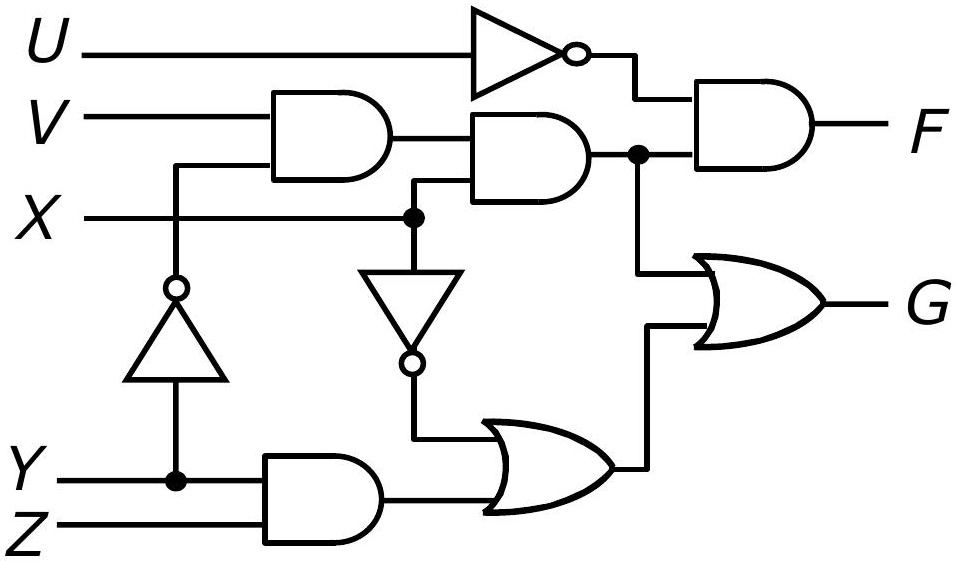and: (249, 443, 392, 554), (258, 81, 400, 192), (459, 104, 598, 215), (687, 69, 821, 182)
not: (112, 264, 237, 394), (349, 257, 471, 383), (459, 0, 597, 105)
or: (681, 241, 836, 364), (471, 411, 621, 525)
